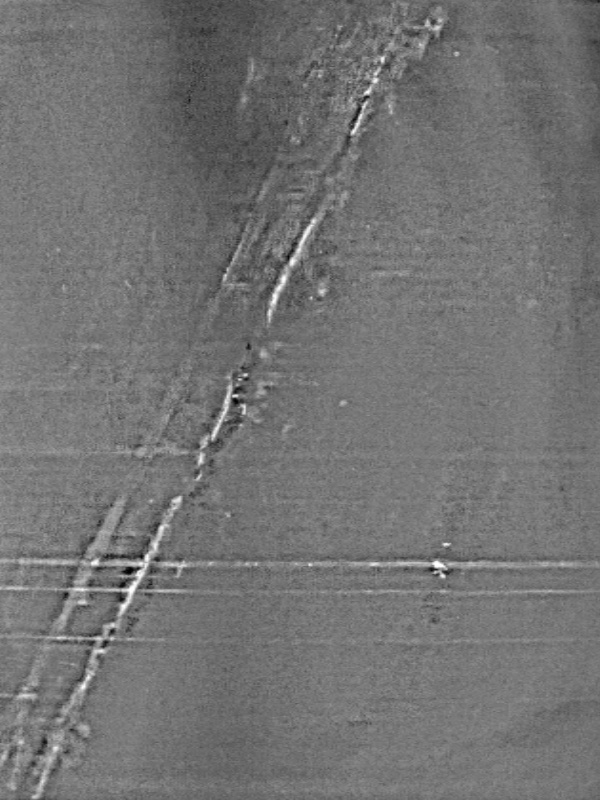splice_vulcanized: (2, 1, 439, 800)
